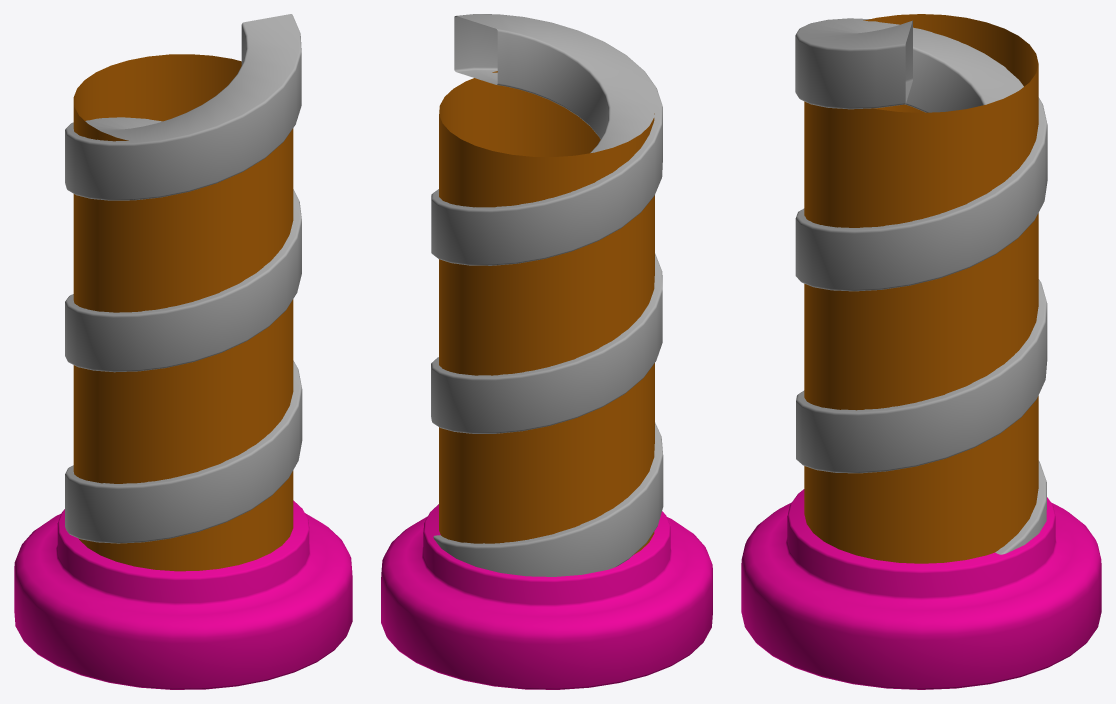
The model's file is Pillars Bottom old.fbx.
3 renders of one model, left to right at view 1: azimuth 30°, elevation 25°; view 2: azimuth 150°, elevation 25°; view 3: azimuth 270°, elevation 25°, orthographic. The views are drawn at different scales.
Parts seen in each view (by area): view 1: WoodModPillBottom; view 2: WoodModPillBottom; view 3: WoodModPillBottom.
Part boxes in pixels (bbox=[...]): WoodModPillBottom: bbox=[14, 14, 352, 689]; WoodModPillBottom: bbox=[381, 14, 712, 689]; WoodModPillBottom: bbox=[741, 14, 1101, 689].
Size of the model in its own units: 192 by 192 by 366.
